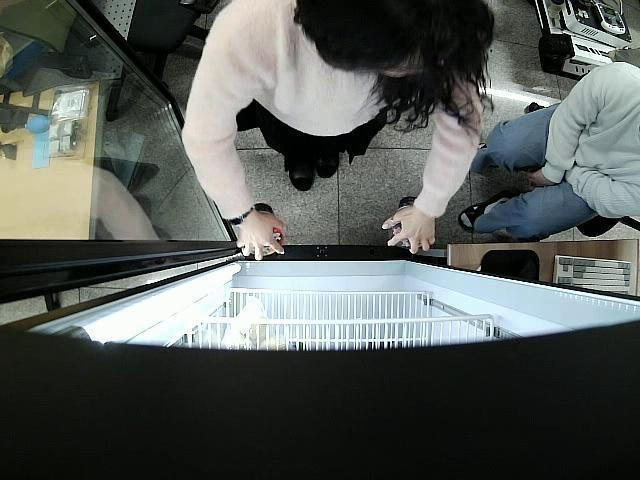08_buldak_S: (252, 203, 281, 256), (392, 196, 417, 250)
